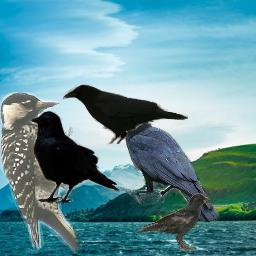Crow: (102, 111, 220, 226), (28, 110, 122, 204), (59, 81, 188, 145), (136, 193, 210, 251)
Woodpecker: (0, 92, 83, 255)
